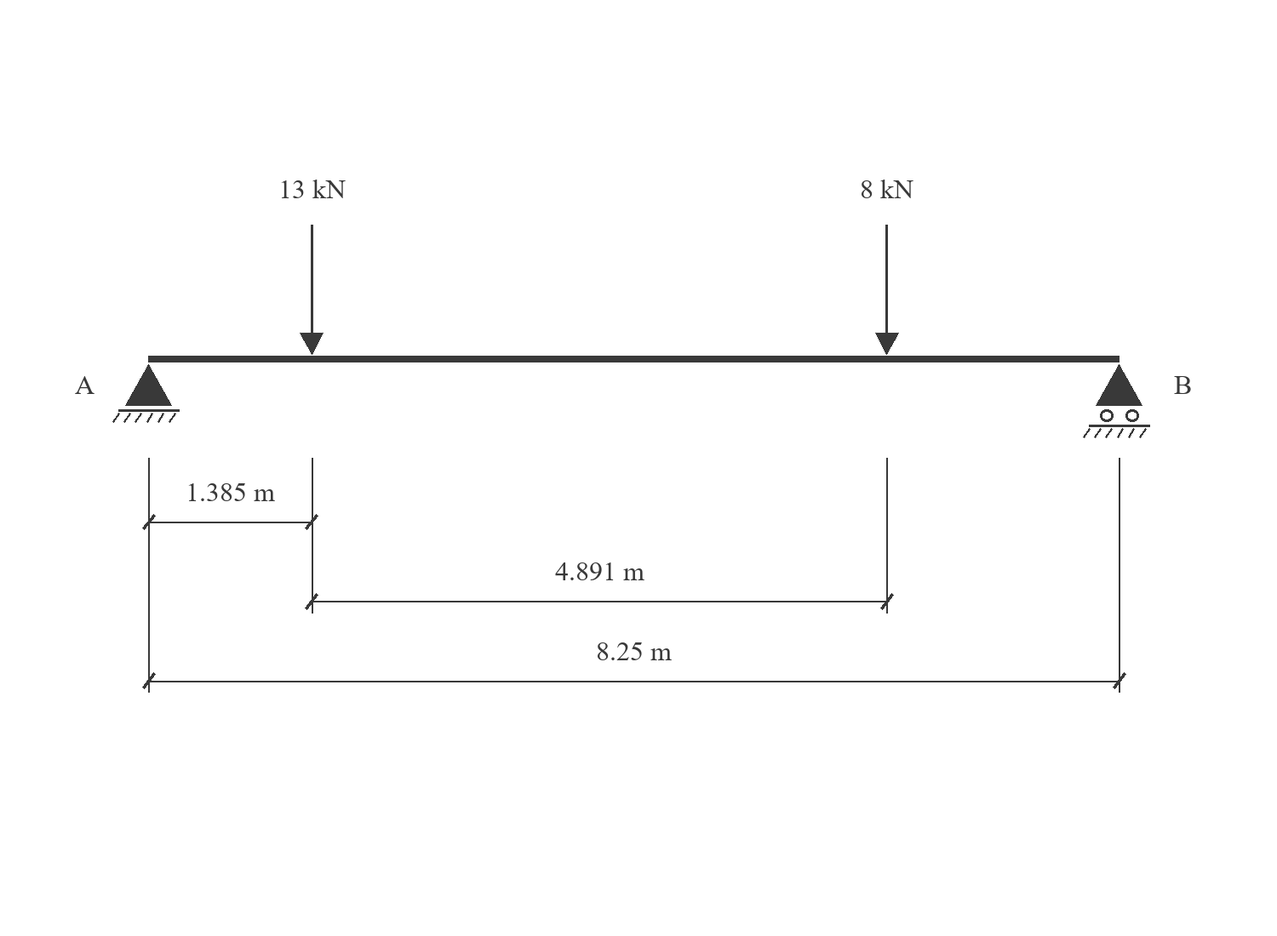pin_support: (112, 364, 180, 423)
point_load: (300, 225, 324, 355), (875, 225, 899, 355)
roller_support: (1083, 364, 1150, 438)
